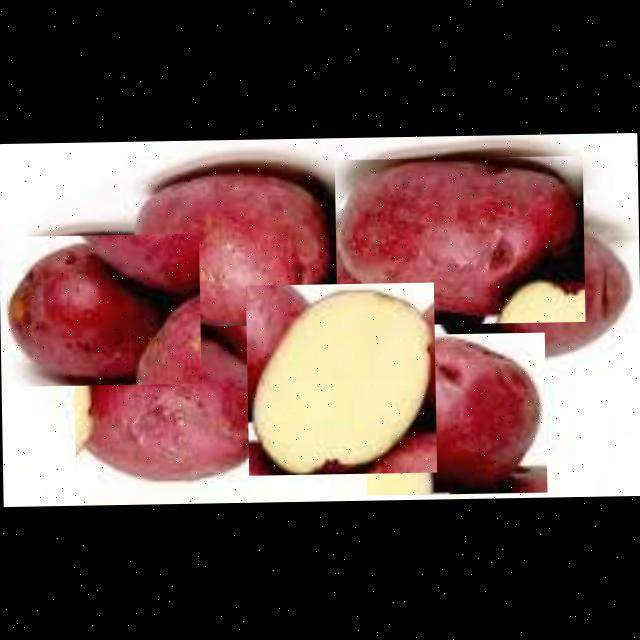Defected potato: (334, 156, 585, 326), (246, 282, 437, 475), (128, 167, 334, 330), (73, 325, 270, 490), (364, 332, 547, 495), (7, 234, 202, 386), (478, 229, 636, 365)
